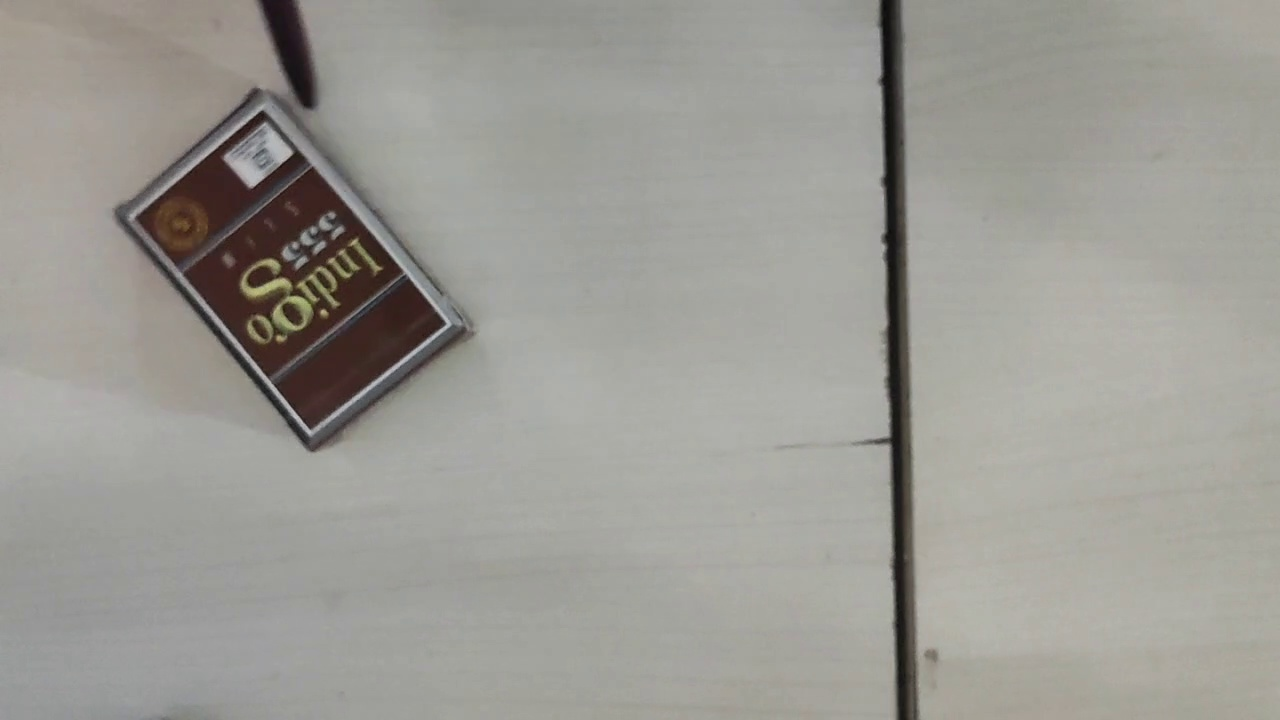BEX: (127, 100, 450, 435)
